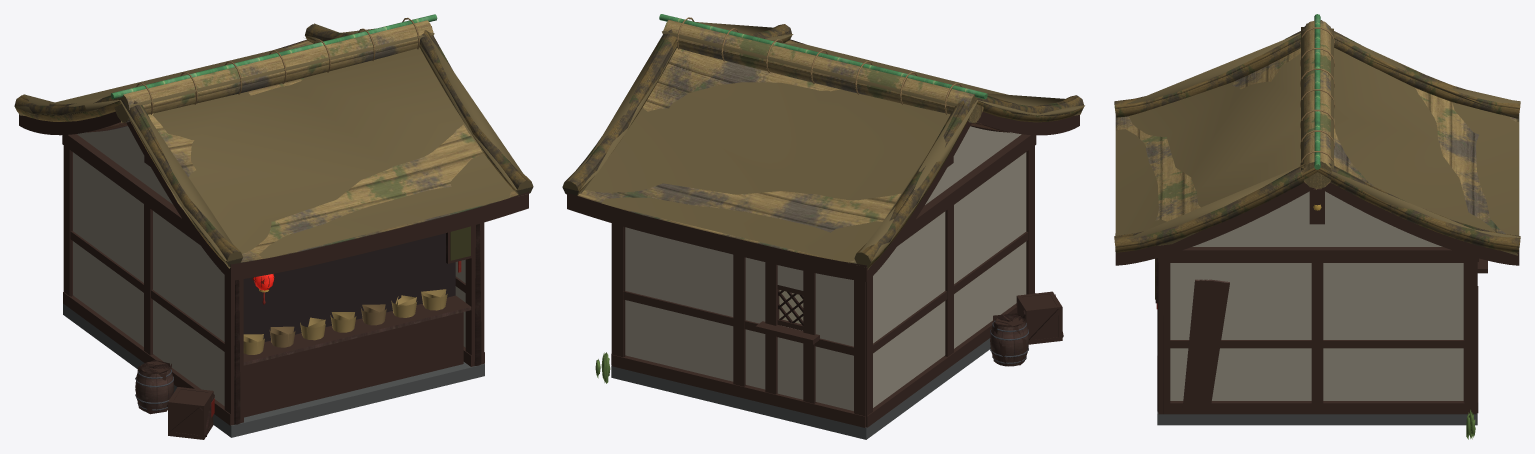
The model's file is prop_shop_small_c.gltf.
3 views of the same model, side by side, from view 1: azimuth 30°, elevation 25°; view 2: azimuth 150°, elevation 25°; view 3: azimuth 270°, elevation 25° (orthographic). The views are drawn at different scales.
Parts seen in each view (by area): view 1: Far, Near; view 2: Far, Near; view 3: Far, Near.
Part boxes in pixels (bbox=[...]): Far: bbox=[15, 23, 533, 439]; Near: bbox=[14, 14, 533, 436]; Far: bbox=[562, 19, 1084, 439]; Near: bbox=[562, 14, 1083, 383]; Far: bbox=[1115, 20, 1520, 425]; Near: bbox=[1114, 14, 1520, 439].
Bounding box in the file's own units: 5.26 × 4.58 × 5.84.
Materials: 20 (12 with a texture image).
